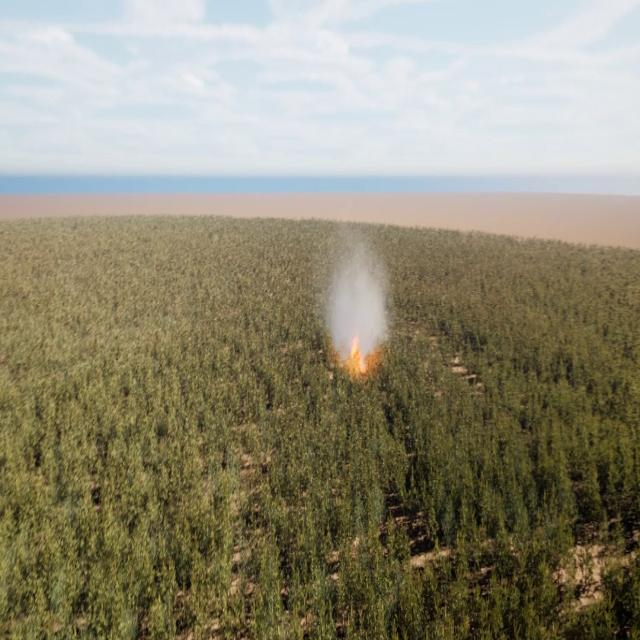fire: (346, 330, 374, 374)
smoke: (327, 226, 392, 377)
